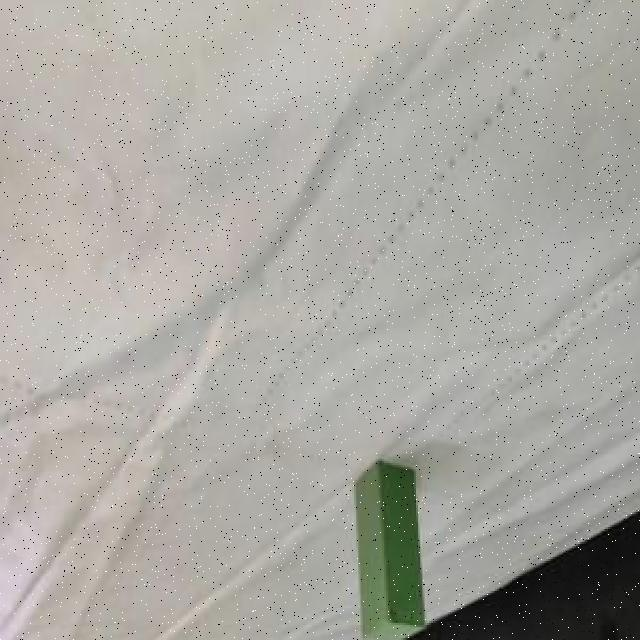greenbox: (356, 461, 428, 640)
